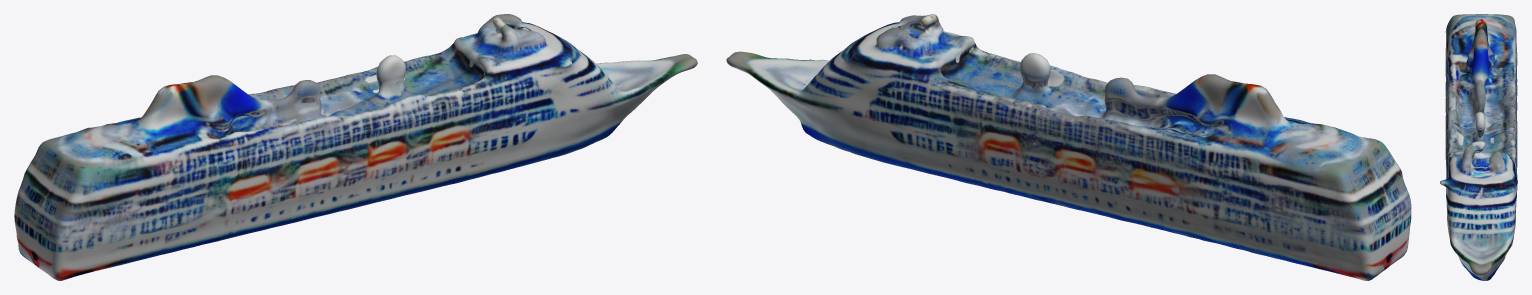
The model's file is f616c06d7ba2_a_cruise_ship_in_Sh.obj.
3 views of the same model, side by side, from view 1: azimuth 30°, elevation 25°; view 2: azimuth 150°, elevation 25°; view 3: azimuth 270°, elevation 25° (orthographic). The views are drawn at different scales.
Visible parts, largest first — view 1: mesh; view 2: mesh; view 3: mesh.
Part boxes in pixels (x1=…): mesh: x1=14, y1=14, x2=697, y2=280; mesh: x1=726, y1=14, x2=1411, y2=280; mesh: x1=1440, y1=14, x2=1517, y2=280.
Bounding box in the file's own units: 0.9986 × 0.2249 × 0.144.
Materials: 1 (1 with a texture image).
